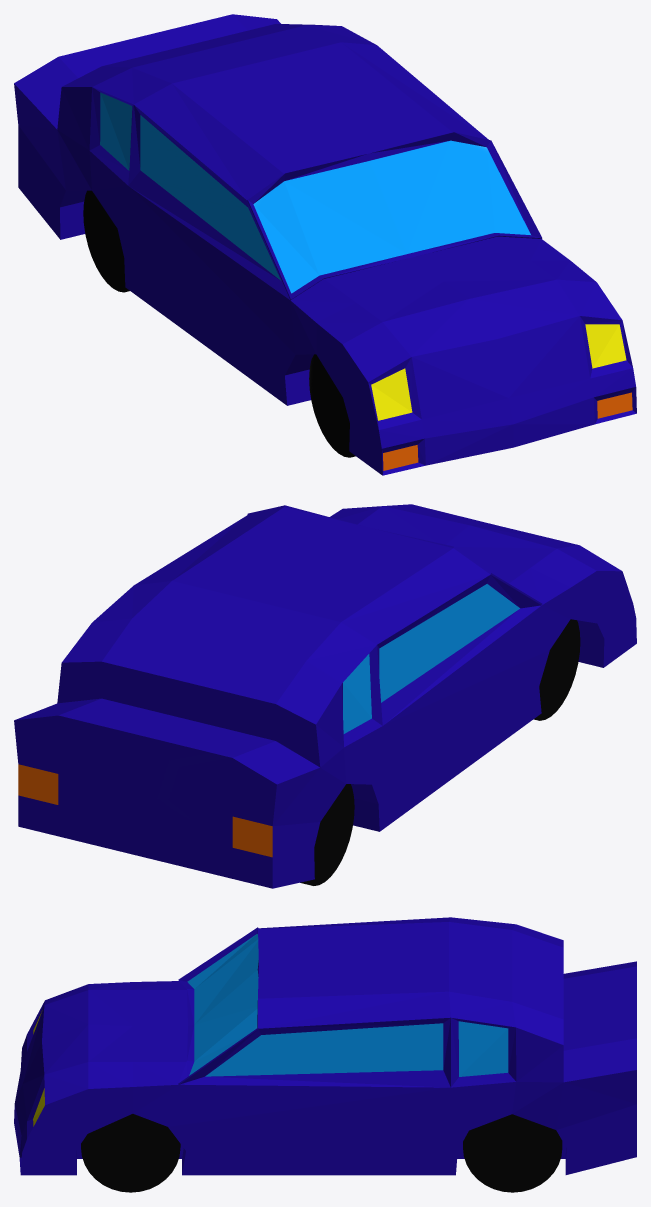
The model's file is car.obj.
The picture shows the model from 3 angles, top to bottom: view 1: azimuth 30°, elevation 25°; view 2: azimuth 150°, elevation 25°; view 3: azimuth 270°, elevation 25°; orthographic projection. The views are drawn at different scales.
Visible parts, largest first — view 1: Cube; view 2: Cube; view 3: Cube.
Part boxes in pixels (bbox=[...]): Cube: bbox=[14, 14, 636, 475]; Cube: bbox=[14, 504, 636, 888]; Cube: bbox=[14, 917, 636, 1192].
Size of the model in its own units: 1.83 by 1.51 by 4.44.
Materials: 1 (1 with a texture image).
